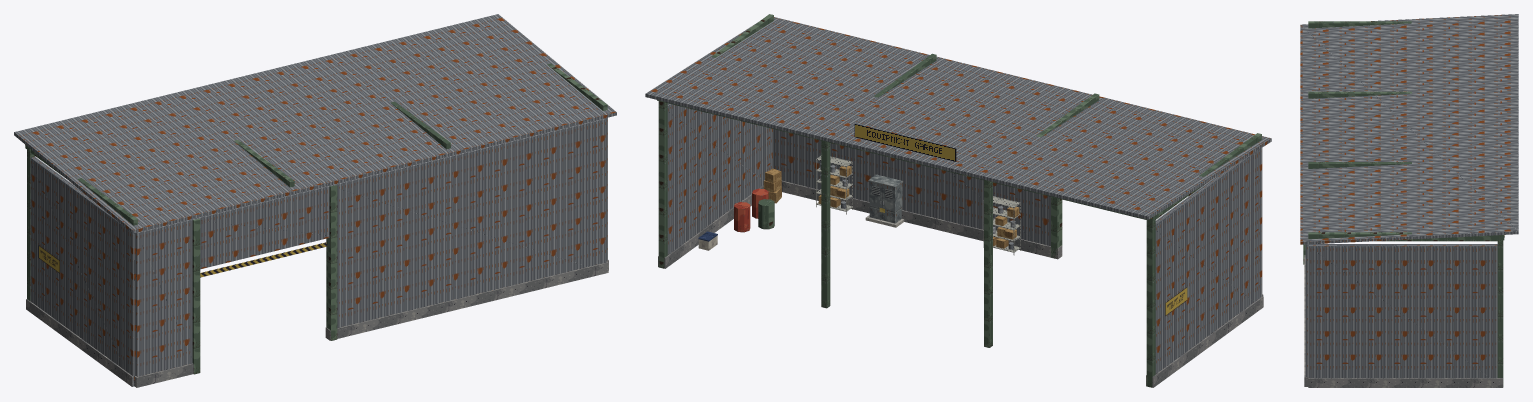
File: buildings__garage.glb
3 views of the same model, side by side, from view 1: azimuth 30°, elevation 25°; view 2: azimuth 150°, elevation 25°; view 3: azimuth 270°, elevation 25° (orthographic). The views are drawn at different scales.
Parts seen in each view (by area): view 1: _MeshInstance3D_219, _MeshInstance3D_208, _MeshInstance3D_221, _MeshInstance3D_220, _MeshInstance3D_222; view 2: _MeshInstance3D_208, _MeshInstance3D_219, _MeshInstance3D_221, _MeshInstance3D_220, UT_ElectricalCabinet_Mesh, _MeshInstance3D_209, RES_Shelving_Metal_Mesh3, RES_Shelving_Metal_Mesh2, _MeshInstance3D_223; view 3: _MeshInstance3D_208, _MeshInstance3D_219, _MeshInstance3D_221, _MeshInstance3D_220.
Part boxes in pixels (x1=…): _MeshInstance3D_219: x1=30, y1=117, x2=607, y2=386; _MeshInstance3D_208: x1=14, y1=14, x2=616, y2=233; _MeshInstance3D_221: x1=25, y1=63, x2=607, y2=374; _MeshInstance3D_220: x1=26, y1=260, x2=608, y2=387; _MeshInstance3D_222: x1=25, y1=144, x2=326, y2=277; _MeshInstance3D_208: x1=645, y1=17, x2=1271, y2=219; _MeshInstance3D_219: x1=667, y1=103, x2=1262, y2=373; _MeshInstance3D_221: x1=657, y1=14, x2=1261, y2=387; _MeshInstance3D_220: x1=658, y1=181, x2=1263, y2=387; UT_ElectricalCabinet_Mesh: x1=865, y1=174, x2=904, y2=227; _MeshInstance3D_209: x1=854, y1=124, x2=956, y2=161; RES_Shelving_Metal_Mesh3: x1=983, y1=196, x2=1020, y2=255; RES_Shelving_Metal_Mesh2: x1=816, y1=155, x2=852, y2=214; _MeshInstance3D_223: x1=734, y1=188, x2=768, y2=232; _MeshInstance3D_208: x1=1300, y1=14, x2=1518, y2=244; _MeshInstance3D_219: x1=1305, y1=244, x2=1497, y2=377; _MeshInstance3D_221: x1=1303, y1=21, x2=1504, y2=387; _MeshInstance3D_220: x1=1304, y1=255, x2=1502, y2=387.
Size of the model in its own units: 19.8 by 7.2 by 8.4.
24 materials, 24 textured.
